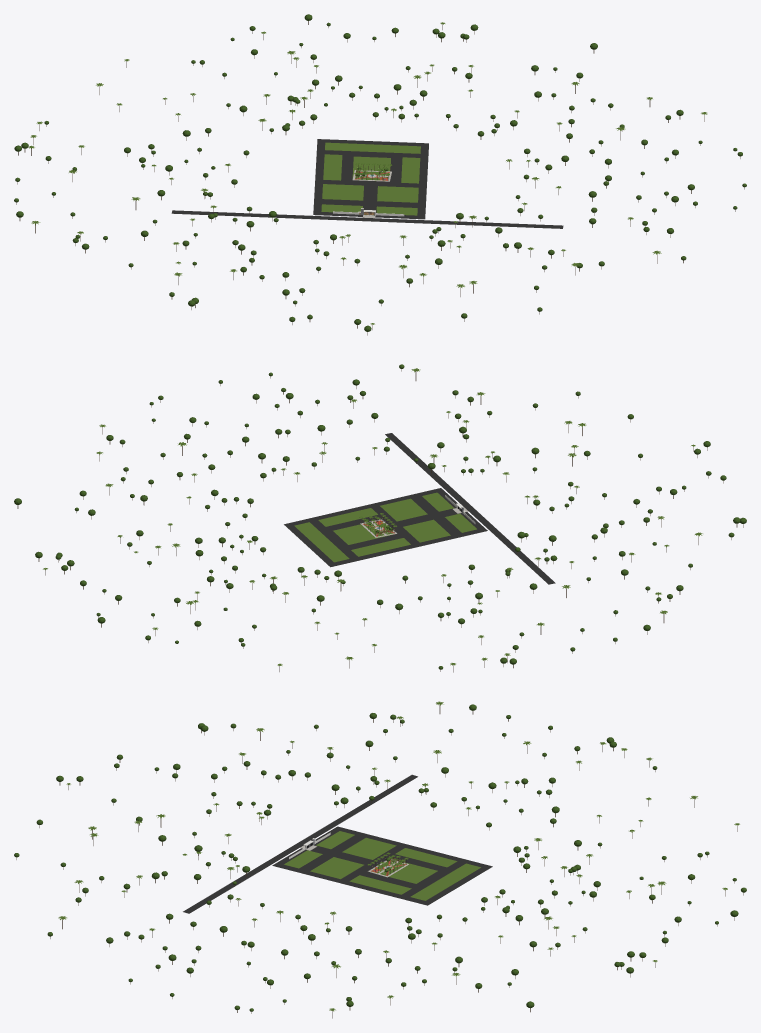
File: sitio.glb
3 views of the same model, one above another, from view 1: azimuth 30°, elevation 25°; view 2: azimuth 150°, elevation 25°; view 3: azimuth 270°, elevation 25° (orthographic).
Parts seen in each view (by area): view 1: sitio; view 2: sitio; view 3: sitio.
Part boxes in pixels (left/top/right/bottom): sitio: left=14, top=14, right=746, bottom=335; sitio: left=14, top=364, right=746, bottom=672; sitio: left=14, top=701, right=746, bottom=1018.
Bounding box in the file's own units: 806 × 15.17 × 811.
